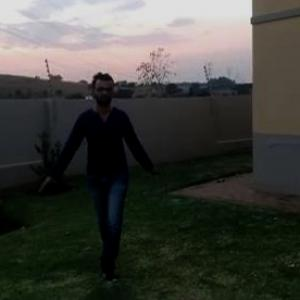land: (25, 58, 175, 289)
